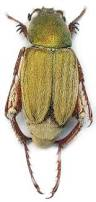Glaphyrus_superbus: (1, 2, 93, 202)
